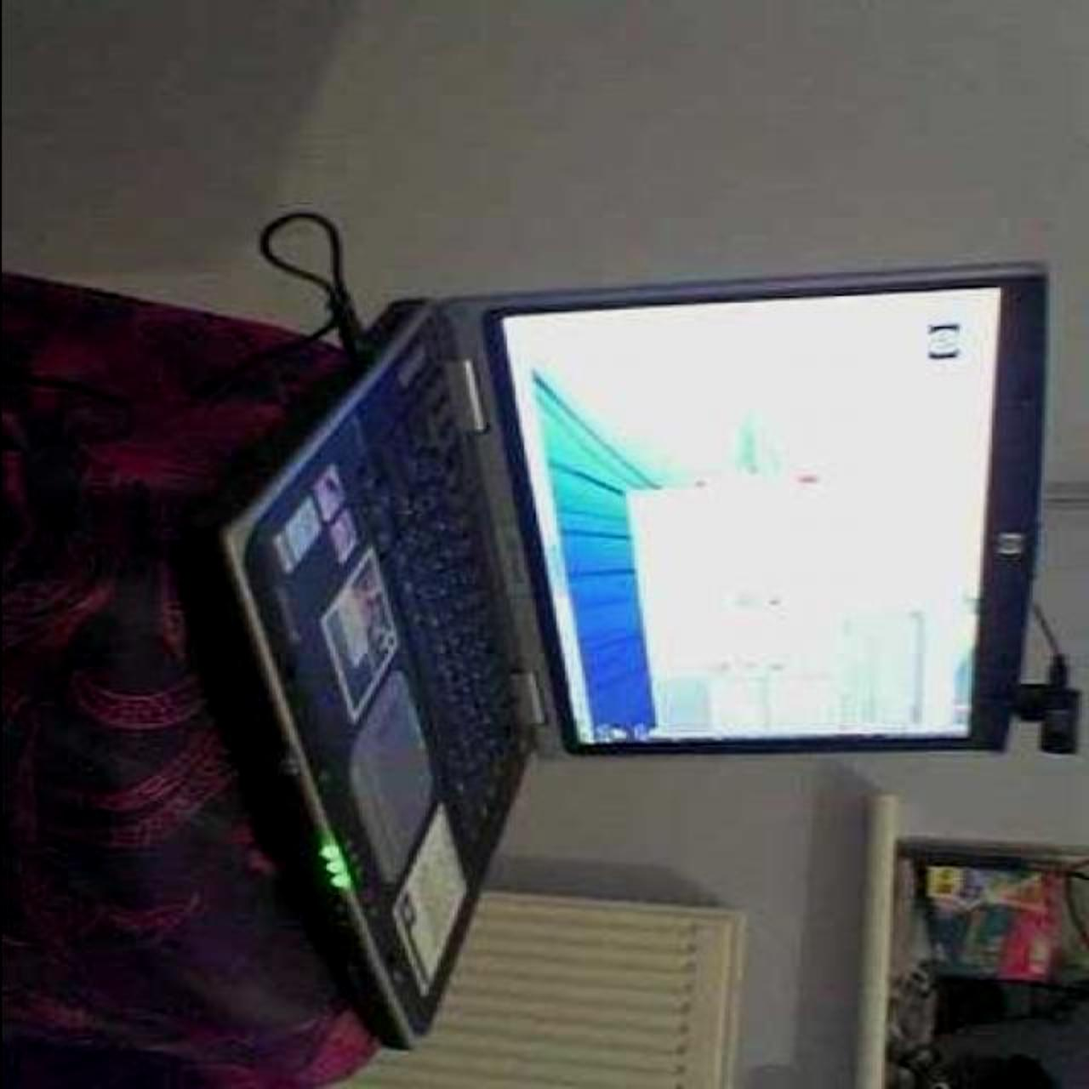laptop: (211, 230, 1035, 948)
